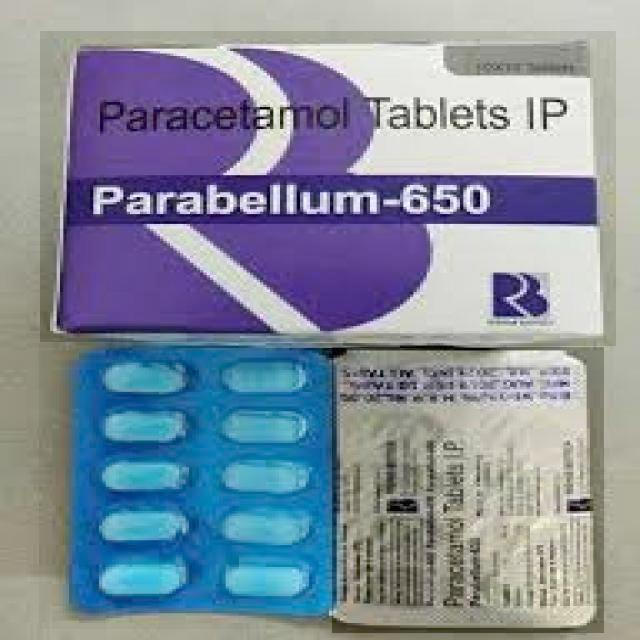authentic: (40, 31, 616, 346), (39, 342, 343, 629), (332, 347, 604, 633)
